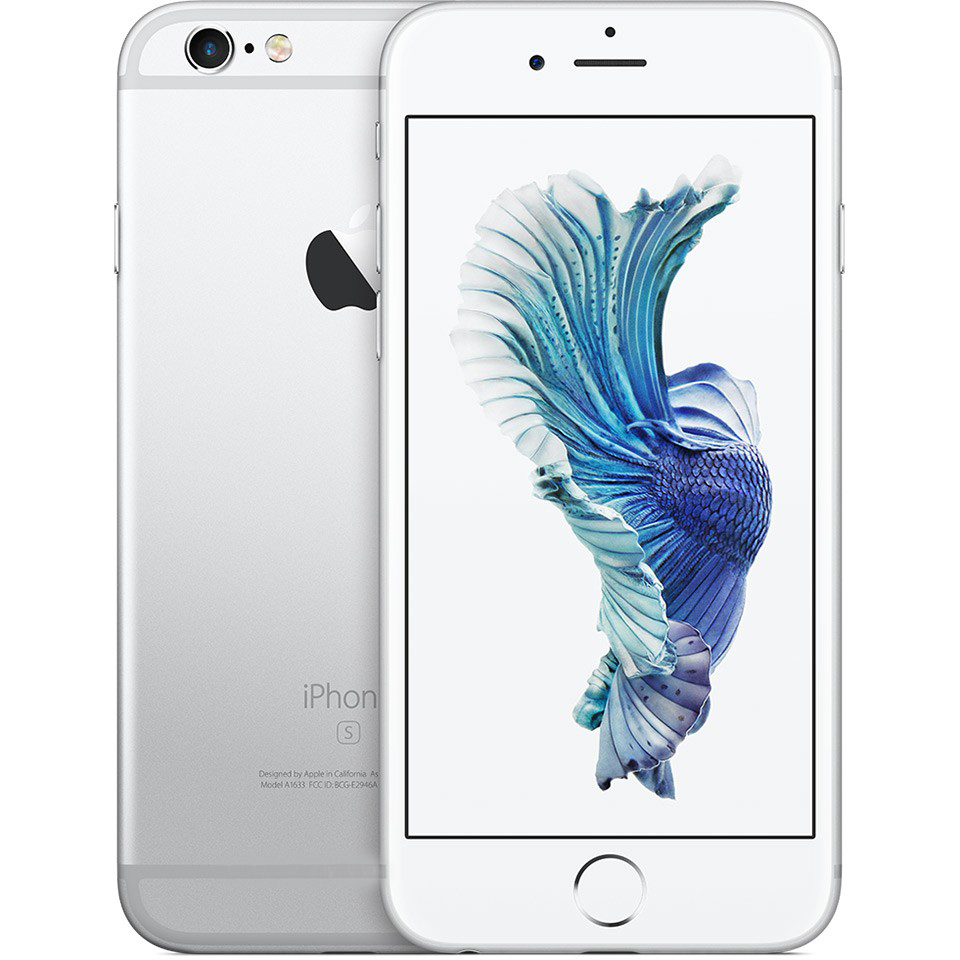Apple: (271, 188, 394, 327), (290, 673, 400, 716)
